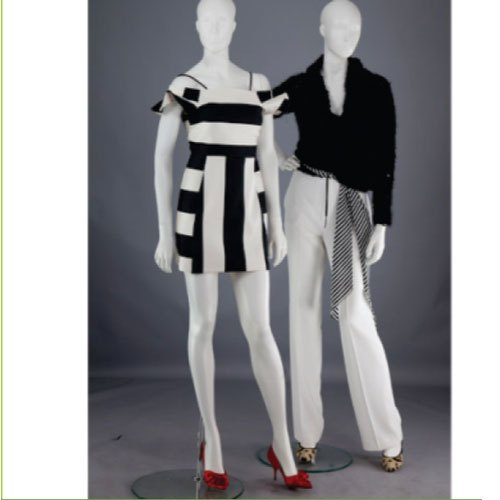person-like: (146, 1, 317, 494), (268, 1, 409, 475)
